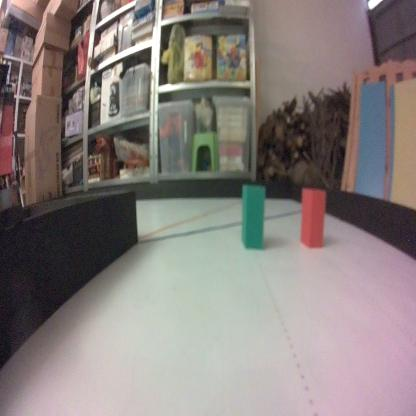green: (239, 181, 267, 252)
red: (298, 186, 327, 248)
